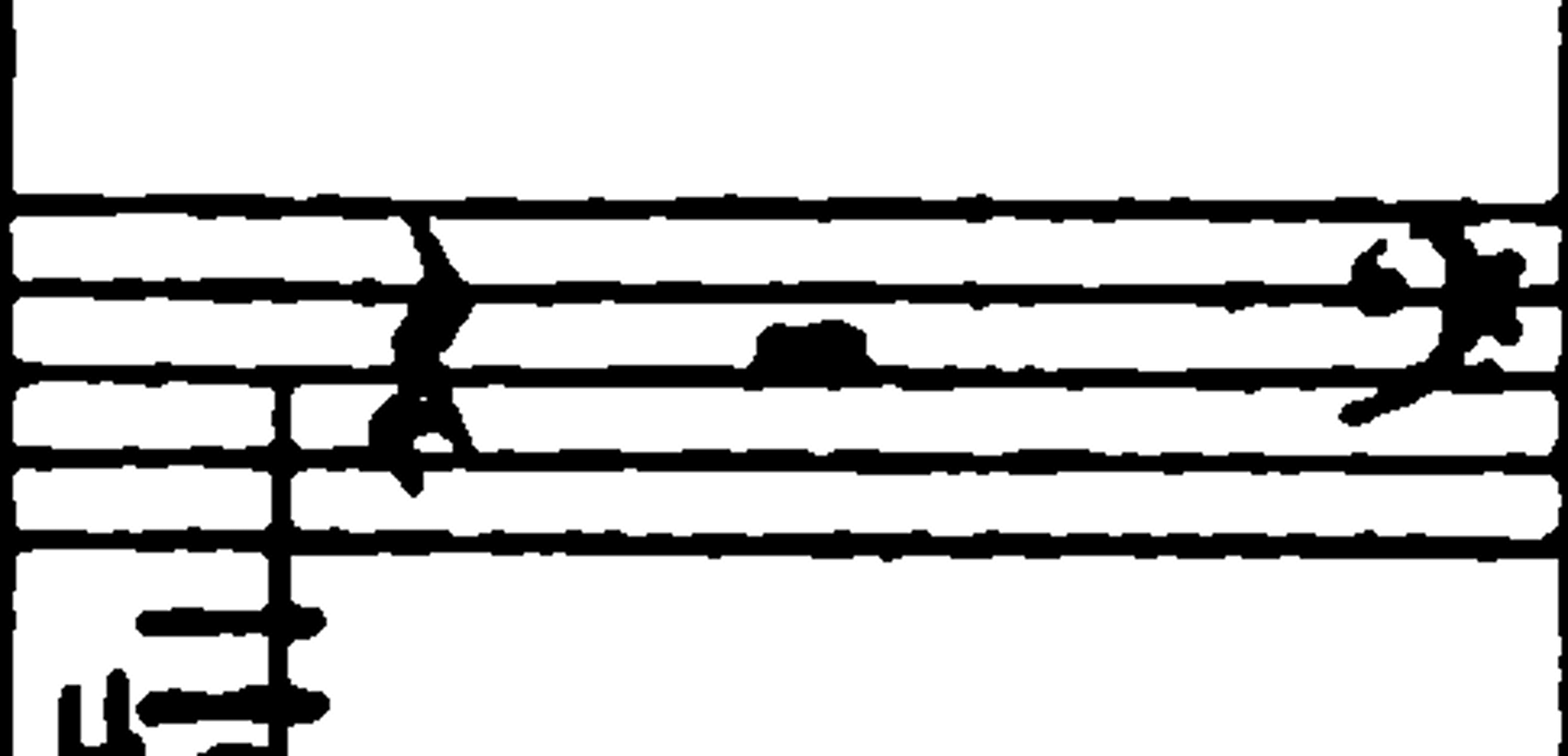noteheadBlackInSpace: (369, 394, 433, 425), (292, 691, 329, 723), (756, 324, 788, 354), (293, 608, 325, 637), (352, 278, 381, 305), (821, 320, 852, 342)
noteheadBlackOnLine: (267, 440, 303, 479), (0, 441, 20, 483), (1225, 286, 1253, 310), (0, 191, 18, 226), (1476, 359, 1502, 383), (1017, 365, 1044, 386), (1353, 530, 1378, 548), (1404, 533, 1427, 549), (983, 365, 1002, 384)
restHBar: (216, 525, 1391, 560), (388, 192, 1470, 225)
restWhole: (135, 609, 330, 636), (135, 611, 268, 636), (441, 367, 489, 386), (135, 458, 169, 468), (1267, 295, 1290, 306)
